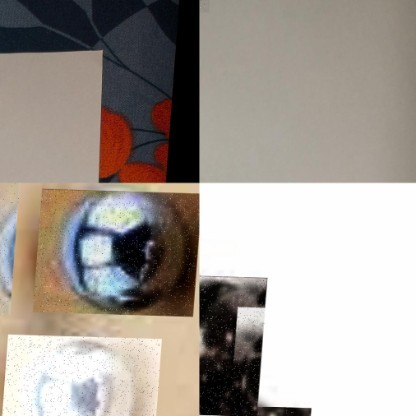ironball: (48, 188, 199, 313), (2, 334, 164, 415), (199, 273, 268, 415), (0, 182, 20, 314), (199, 403, 315, 415)
